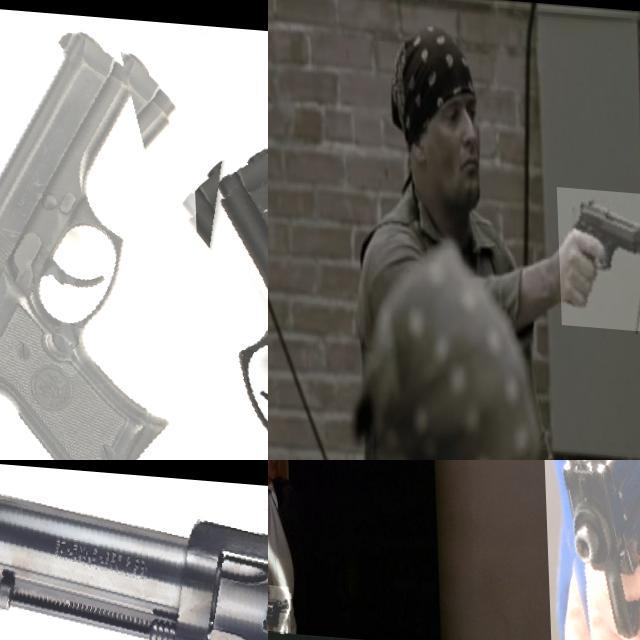gun-knife-thesis - v11 Yolov5 augmented: (0, 1, 204, 460), (0, 460, 268, 640), (159, 127, 268, 460), (540, 460, 640, 640), (555, 181, 640, 325), (268, 581, 289, 630)
